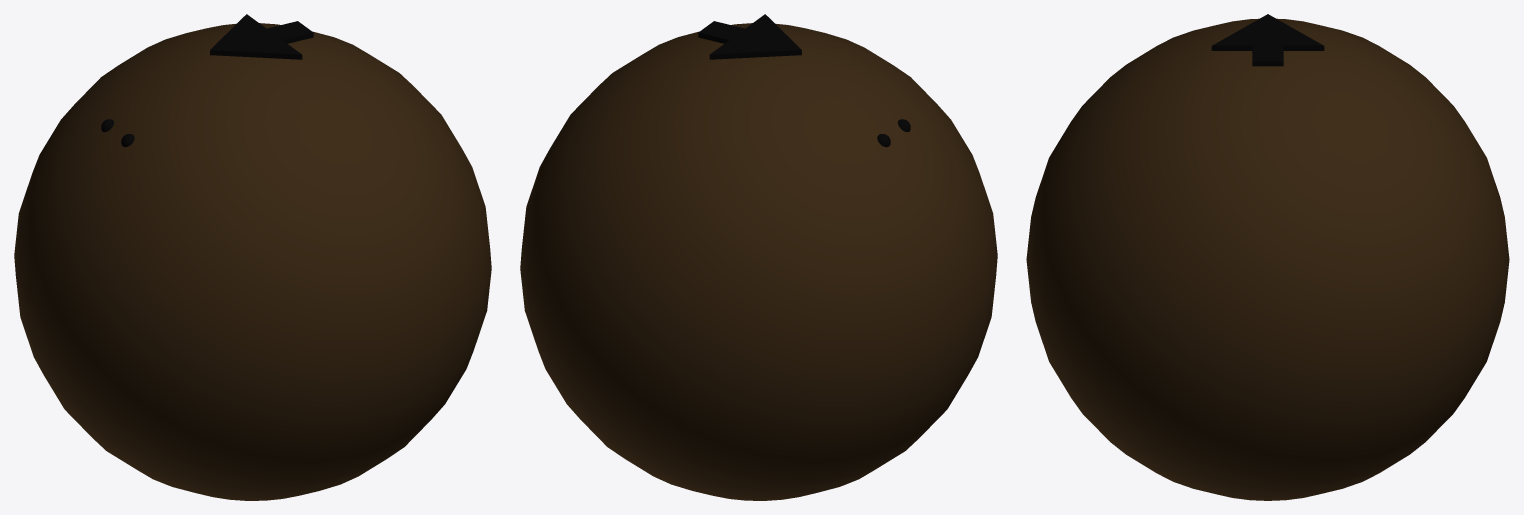
The model's file is bbrown.obj.
3 renders of one model, left to right at view 1: azimuth 30°, elevation 25°; view 2: azimuth 150°, elevation 25°; view 3: azimuth 270°, elevation 25°, orthographic.
Parts seen in each view (by area): view 1: Cube.021_Cube.001; view 2: Cube.021_Cube.001; view 3: Cube.021_Cube.001.
Boxes of the visible parts, x1=… form: Cube.021_Cube.001: x1=14, y1=14, x2=491, y2=500; Cube.021_Cube.001: x1=520, y1=14, x2=997, y2=500; Cube.021_Cube.001: x1=1026, y1=14, x2=1509, y2=500.
Size of the model in its own units: 0.4999 by 0.5016 by 0.4999.
